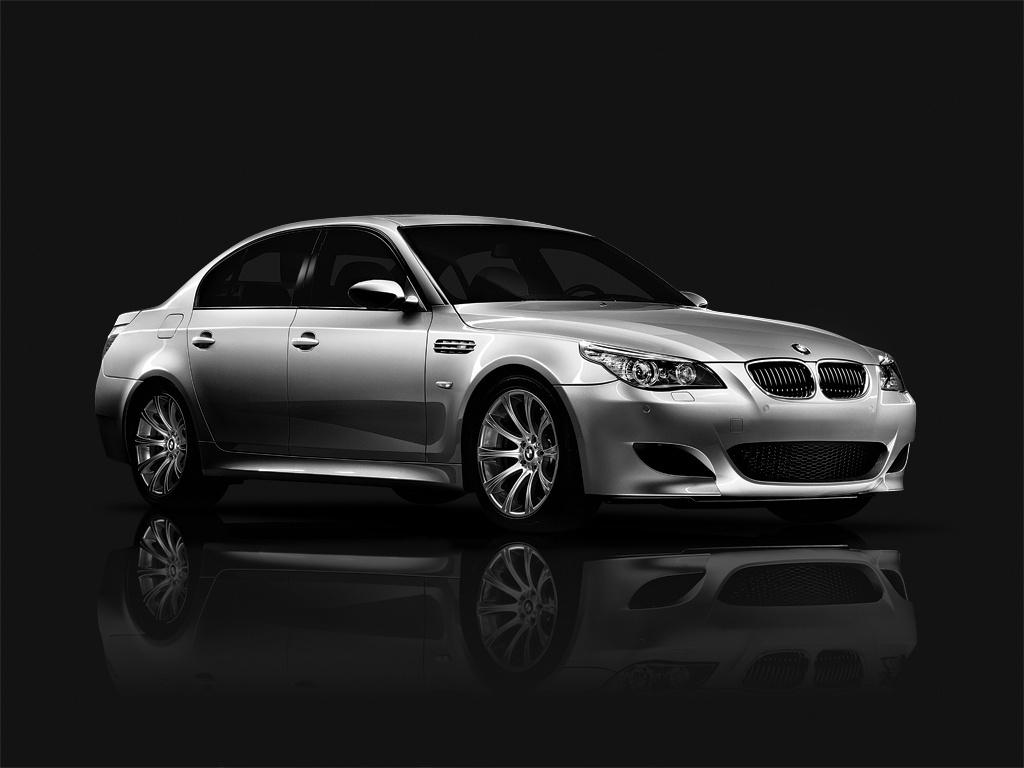car: (99, 210, 915, 531)
